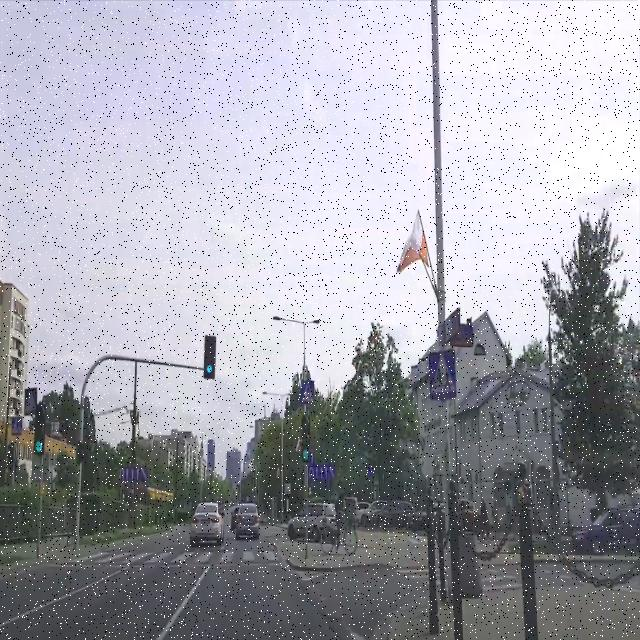Przejscie dla pieszych: (302, 379, 316, 404), (10, 416, 22, 436)
